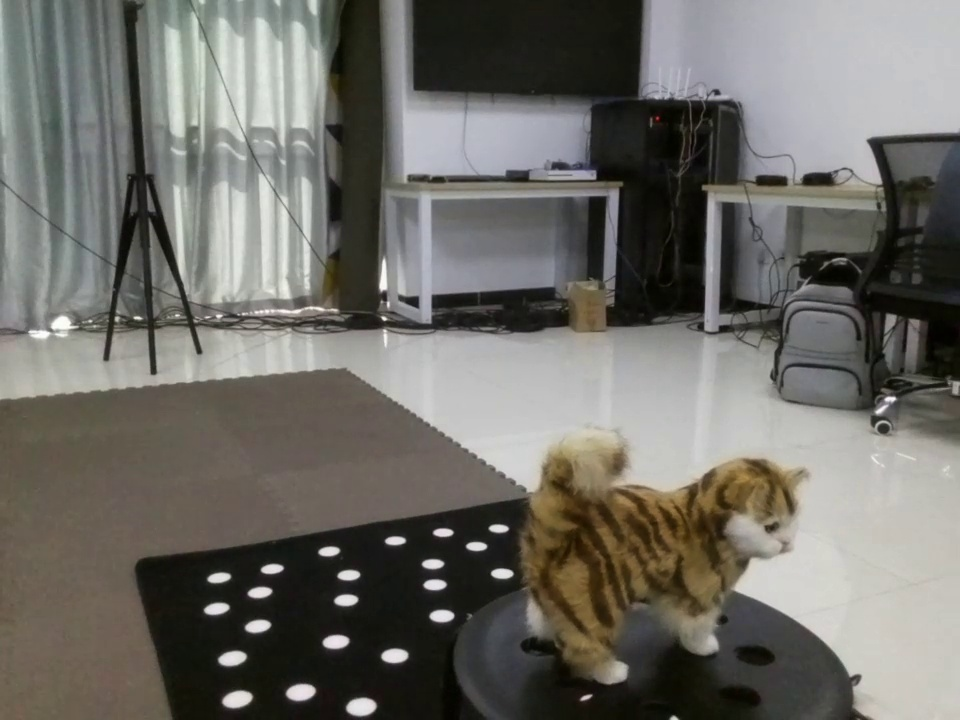cat: (444, 435, 833, 693)
